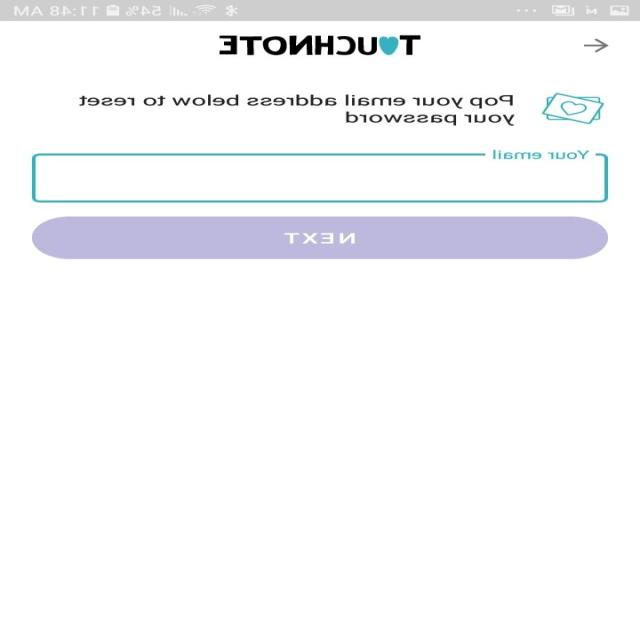EditText: (33, 150, 609, 203)
Icon: (583, 38, 609, 53)
Image: (219, 34, 422, 56), (542, 93, 606, 124)
Text: (79, 94, 516, 126), (492, 150, 590, 159)
TextButton: (33, 216, 609, 259)
